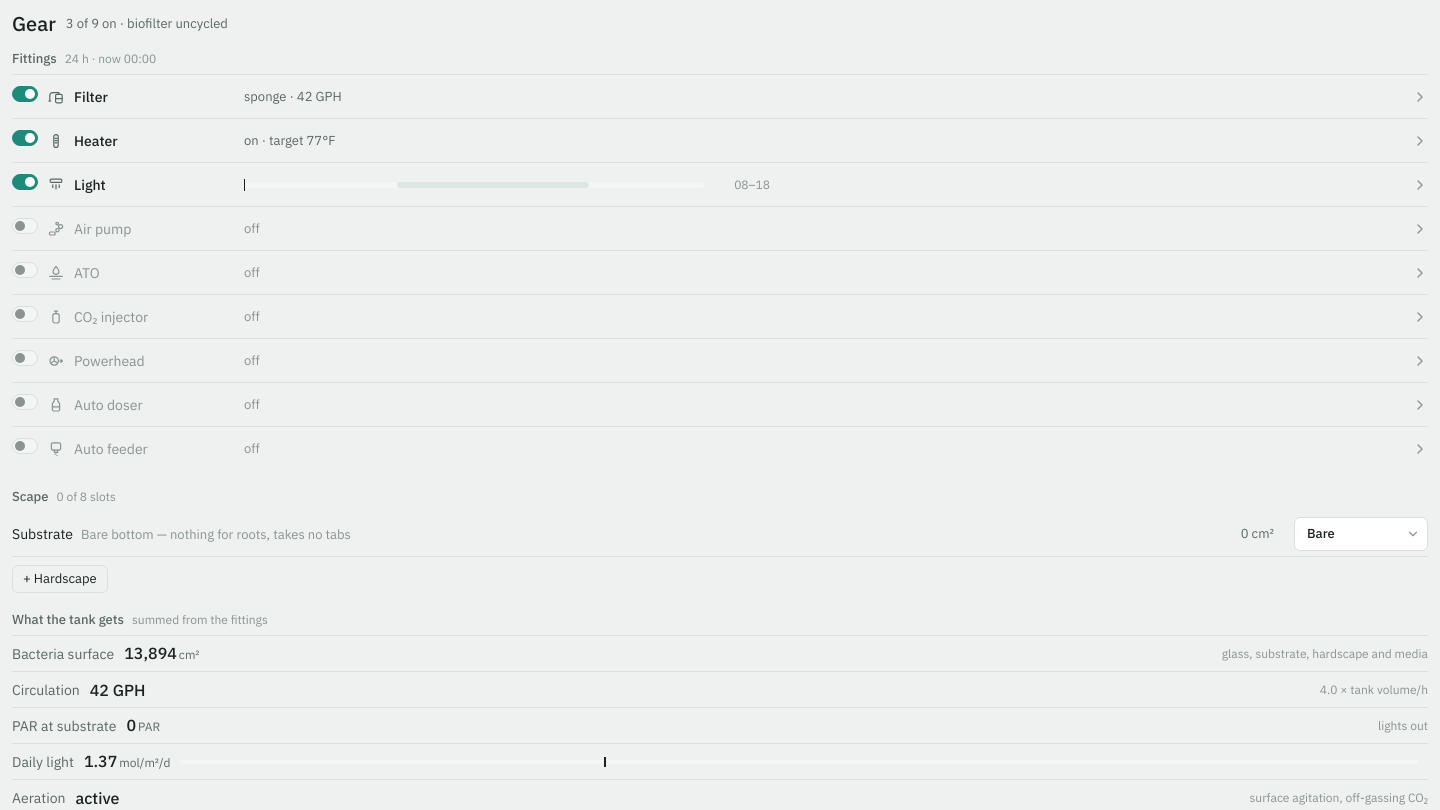
Test: GearSection (phone) › still switches and still opens, where there is less room to read
Expected: the switch named "Light power" is shown, [12, 174, 38, 190]
Click the link named "Light —" at (720, 184), box [12, 163, 1428, 206]
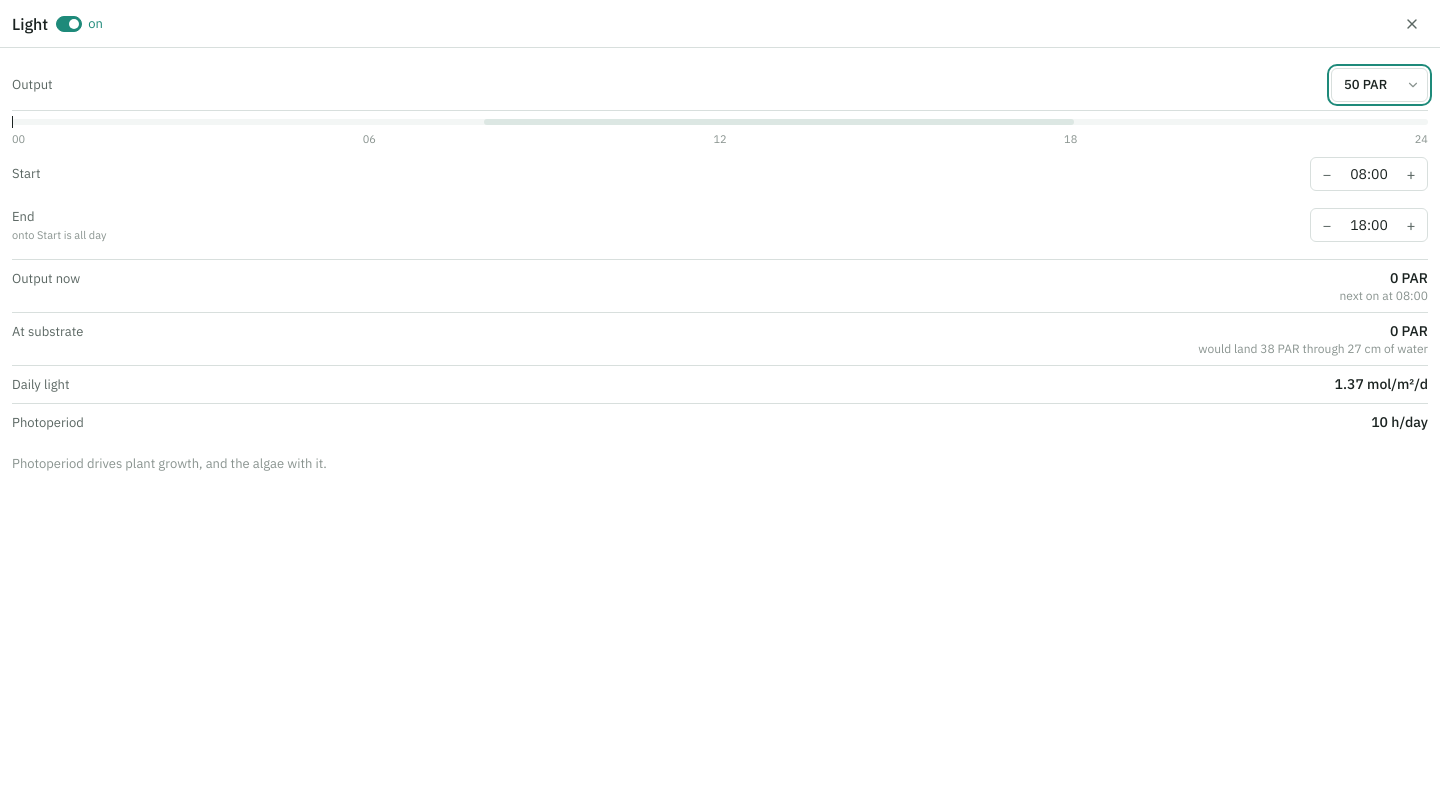
Result: the element named "Start hour" is shown at [1310, 157, 1428, 191]
